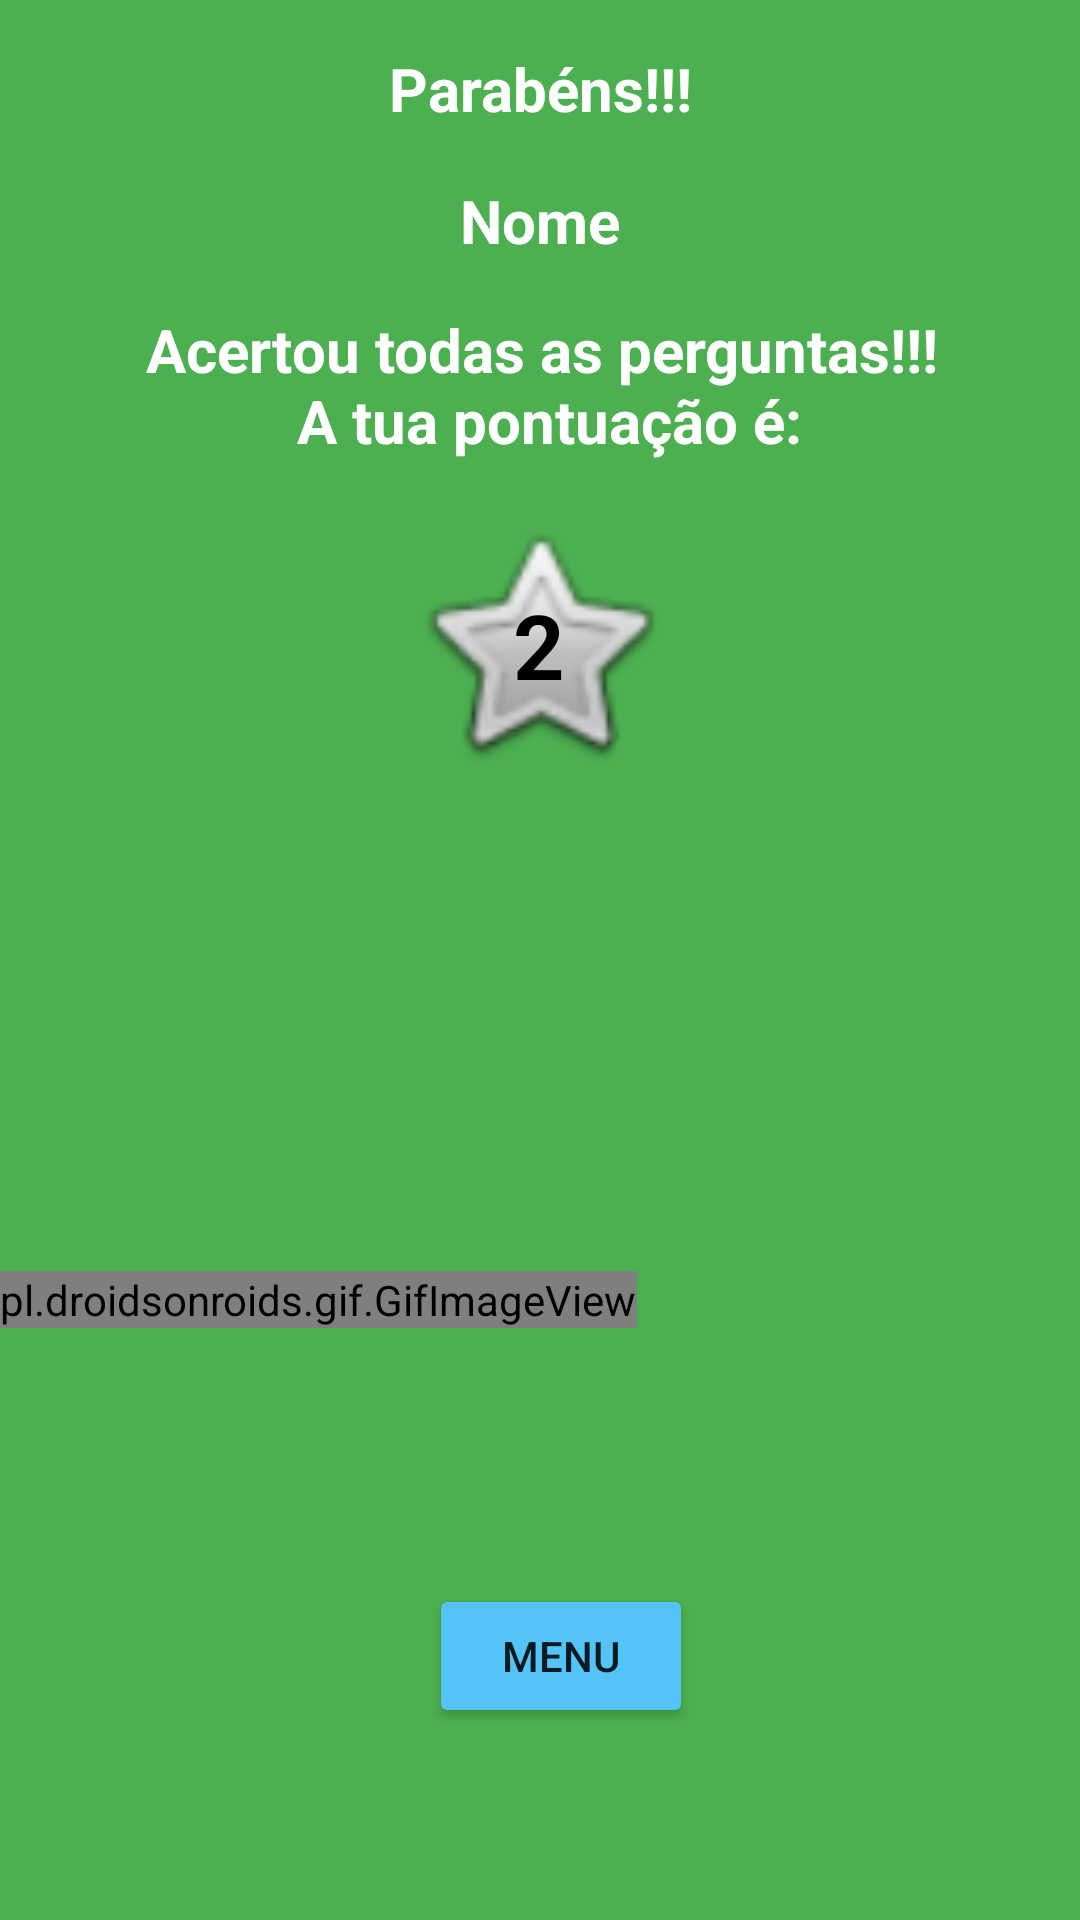

Icon click points for this 1080×1920 phone screenshot, format [x,y]:
star: [541,646]
